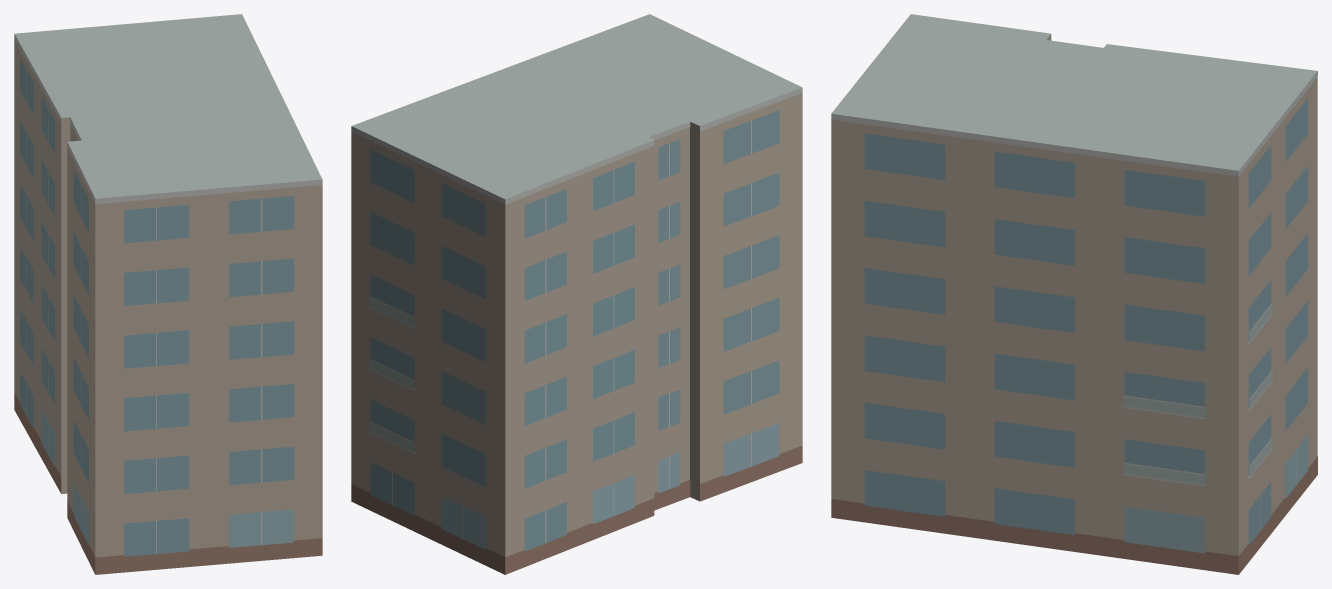
File: survey-upis-32704593.glb
3 views of the same model, side by side, from view 1: azimuth 30°, elevation 25°; view 2: azimuth 150°, elevation 25°; view 3: azimuth 270°, elevation 25° (orthographic). The views are drawn at different scales.
Parts seen in each view (by area): view 1: survey-upis-32704593.tmp; view 2: survey-upis-32704593.tmp; view 3: survey-upis-32704593.tmp.
Part boxes in pixels (bbox=[...]): survey-upis-32704593.tmp: bbox=[14, 14, 322, 574]; survey-upis-32704593.tmp: bbox=[351, 14, 802, 574]; survey-upis-32704593.tmp: bbox=[831, 14, 1317, 574].
Bounding box in the file's own units: 13.92 × 16.7 × 18.24.
